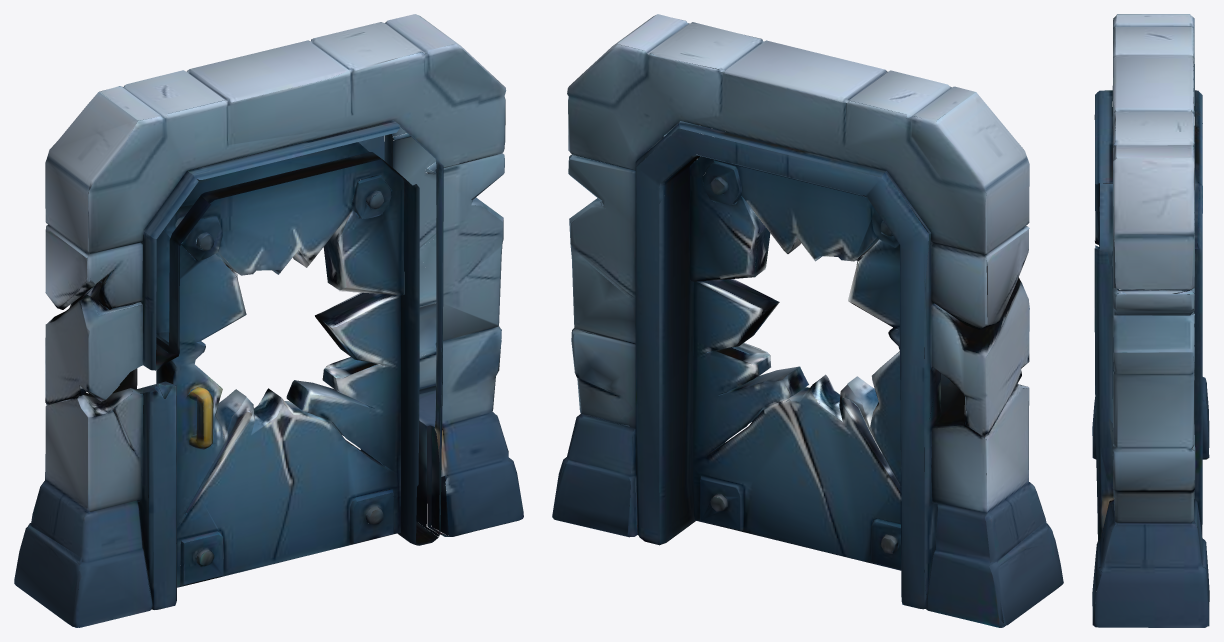
File: door.glb
The picture shows the model from 3 angles, left to right: view 1: azimuth 30°, elevation 25°; view 2: azimuth 150°, elevation 25°; view 3: azimuth 270°, elevation 25°; orthographic projection. The views are drawn at different scales.
Visible parts, largest first — view 1: door; view 2: door; view 3: door.
Part boxes in pixels (x1=…): door: x1=14, y1=14, x2=523, y2=627; door: x1=552, y1=14, x2=1063, y2=627; door: x1=1092, y1=14, x2=1209, y2=627.
Size of the model in its own units: 0.5012 by 0.5127 by 0.1214.
Materials: 1 (1 with a texture image).
